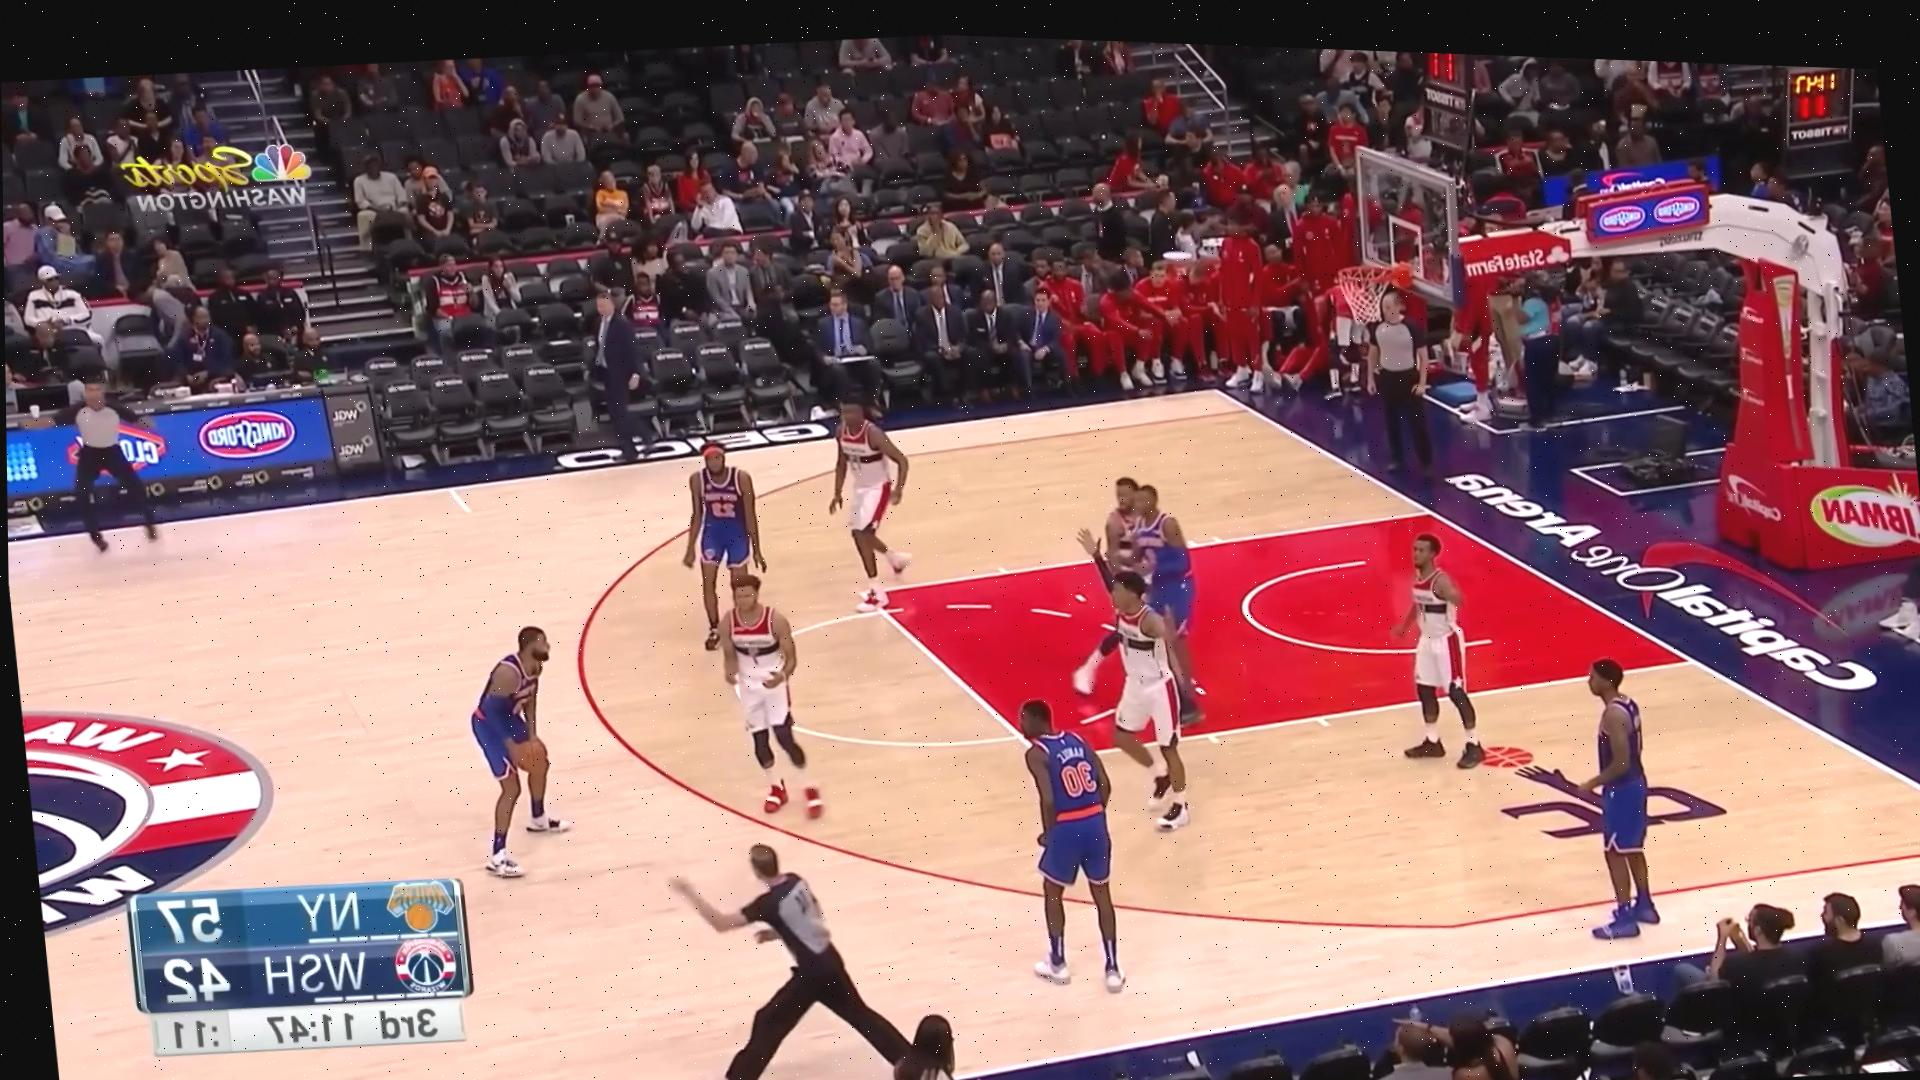no_foul: (654, 385, 948, 653)
